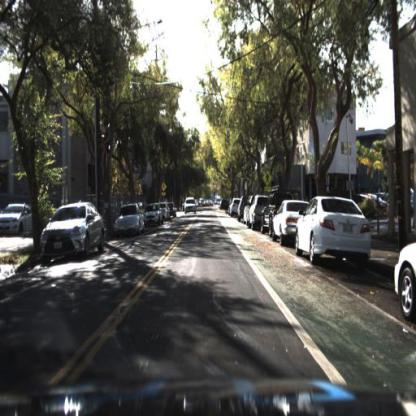car: (294, 192, 374, 261), (40, 196, 107, 256), (392, 241, 416, 322), (273, 198, 311, 248), (116, 203, 145, 235), (185, 199, 197, 215)
